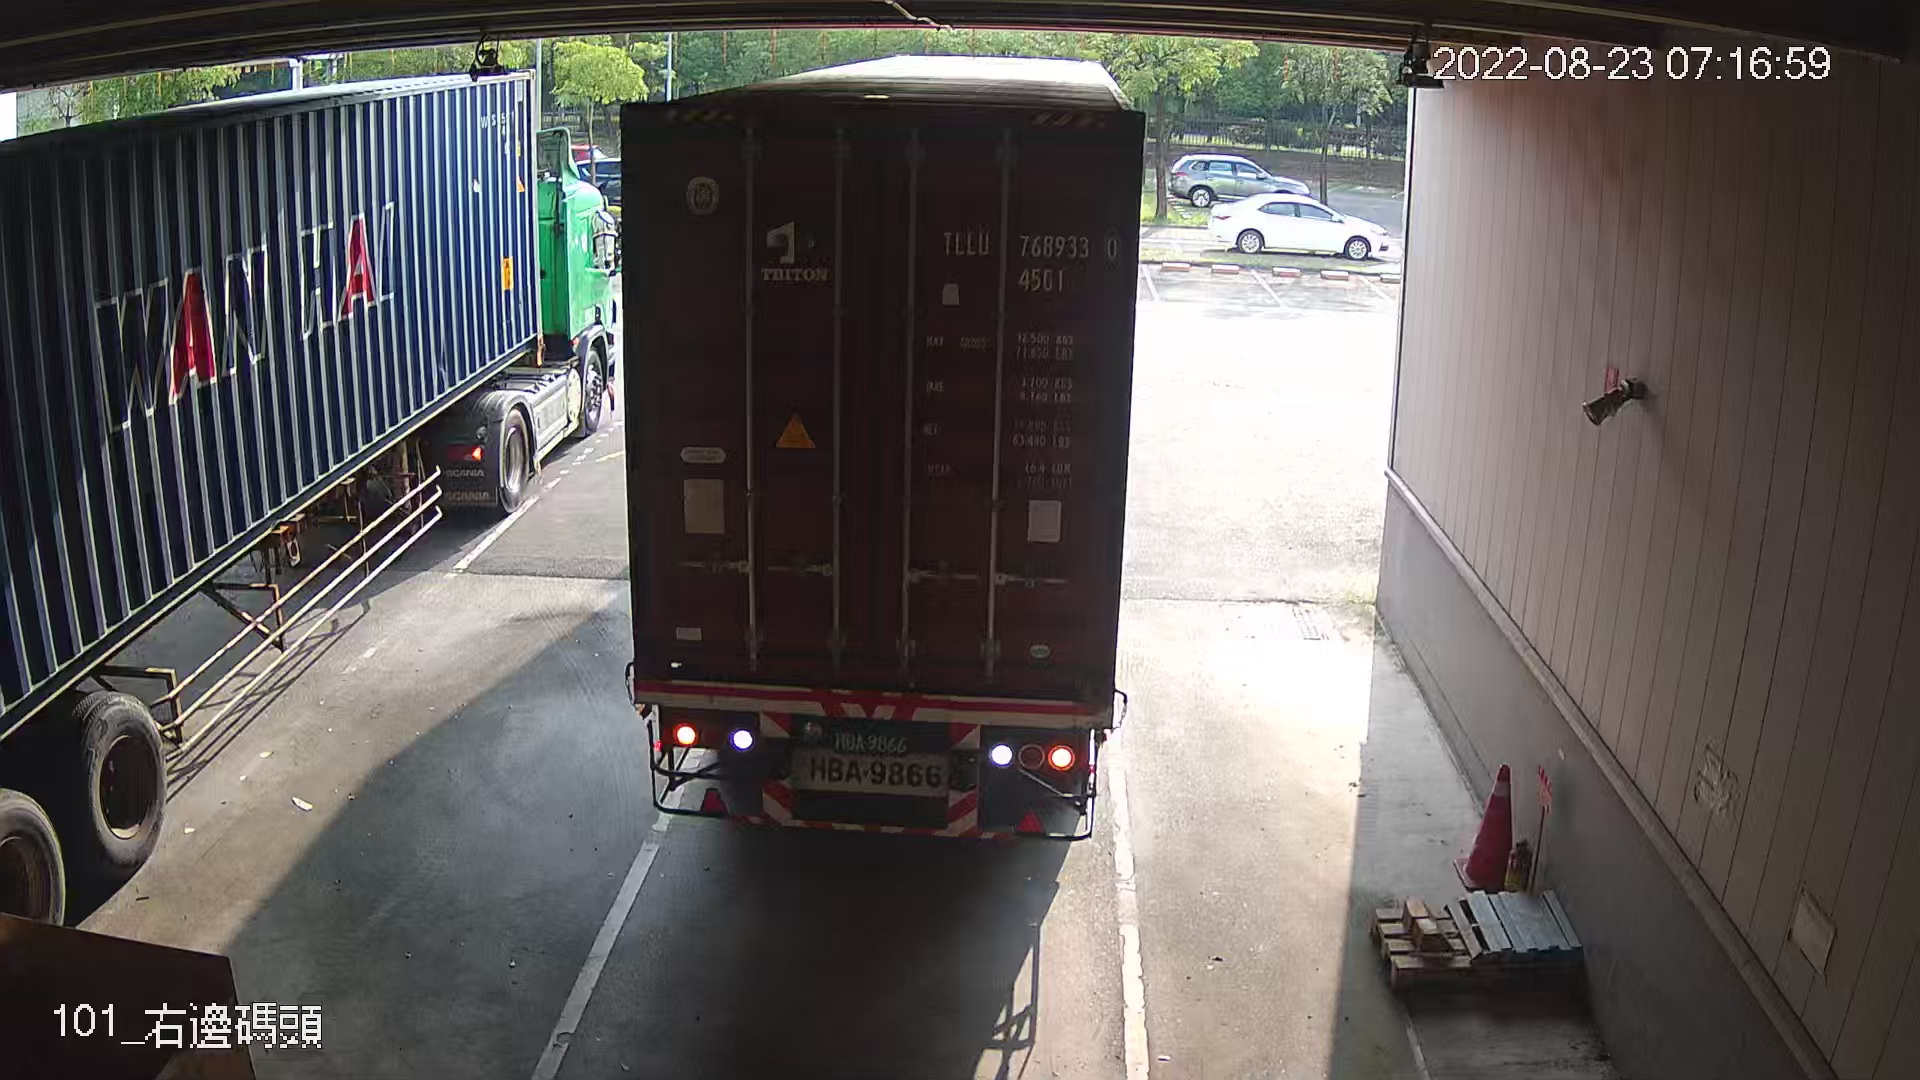container: (932, 216, 1126, 301)
